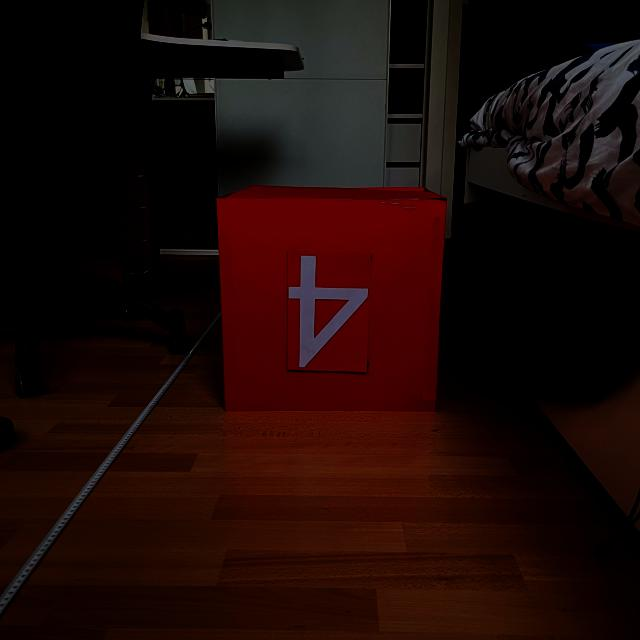box: (212, 180, 448, 414)
